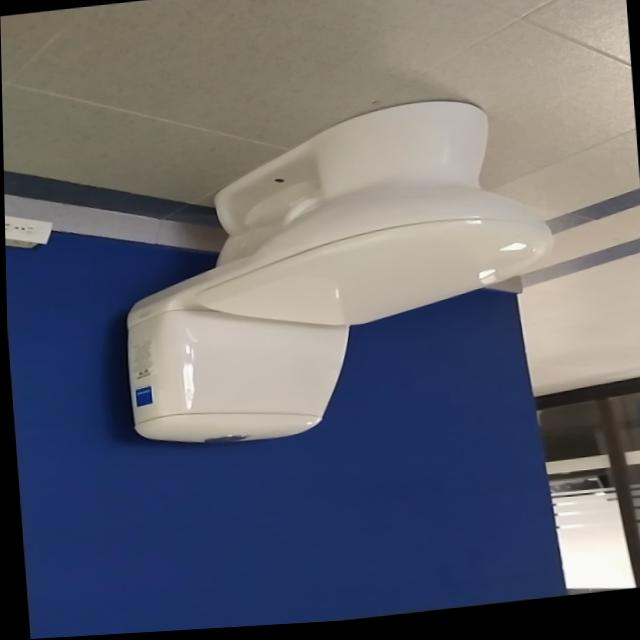toilet: (109, 94, 566, 458)
